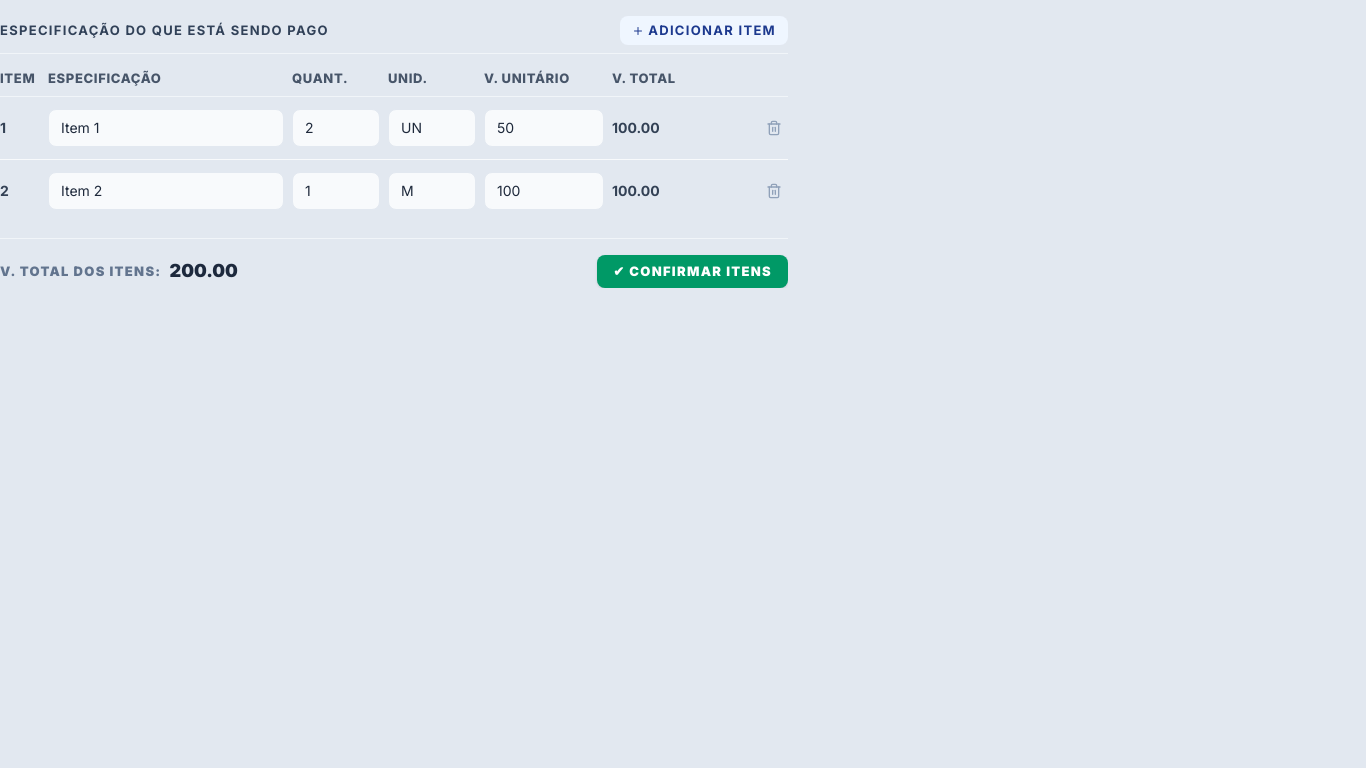
Test: OpItemsTable Component › AlertDialog aparece ao clicar remover
What coordinates should you click on to do the following:
click the 1st button named "Remover item"
I would click on:
 (774, 128)
Its box is [760,114,788,142].
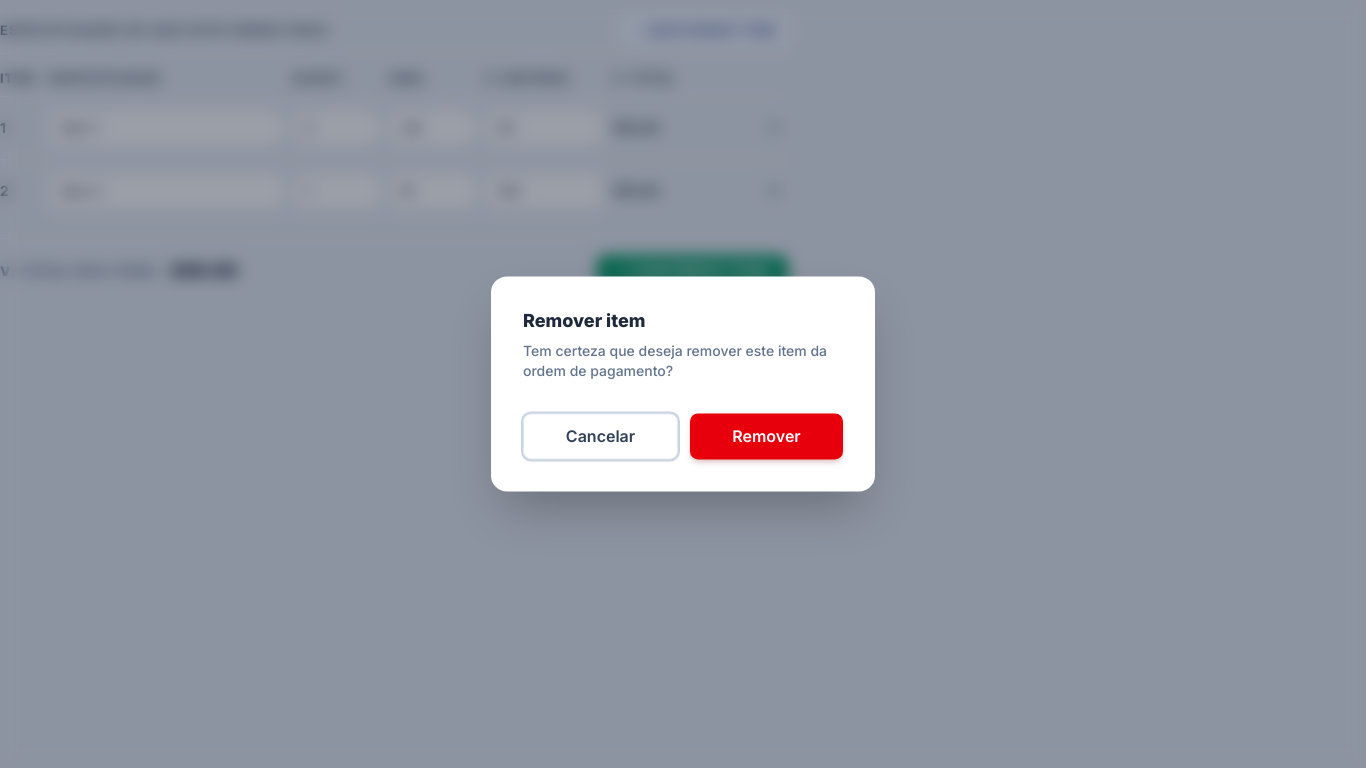
Result: the heading "Remover item" is shown at [523,310,645,331]
